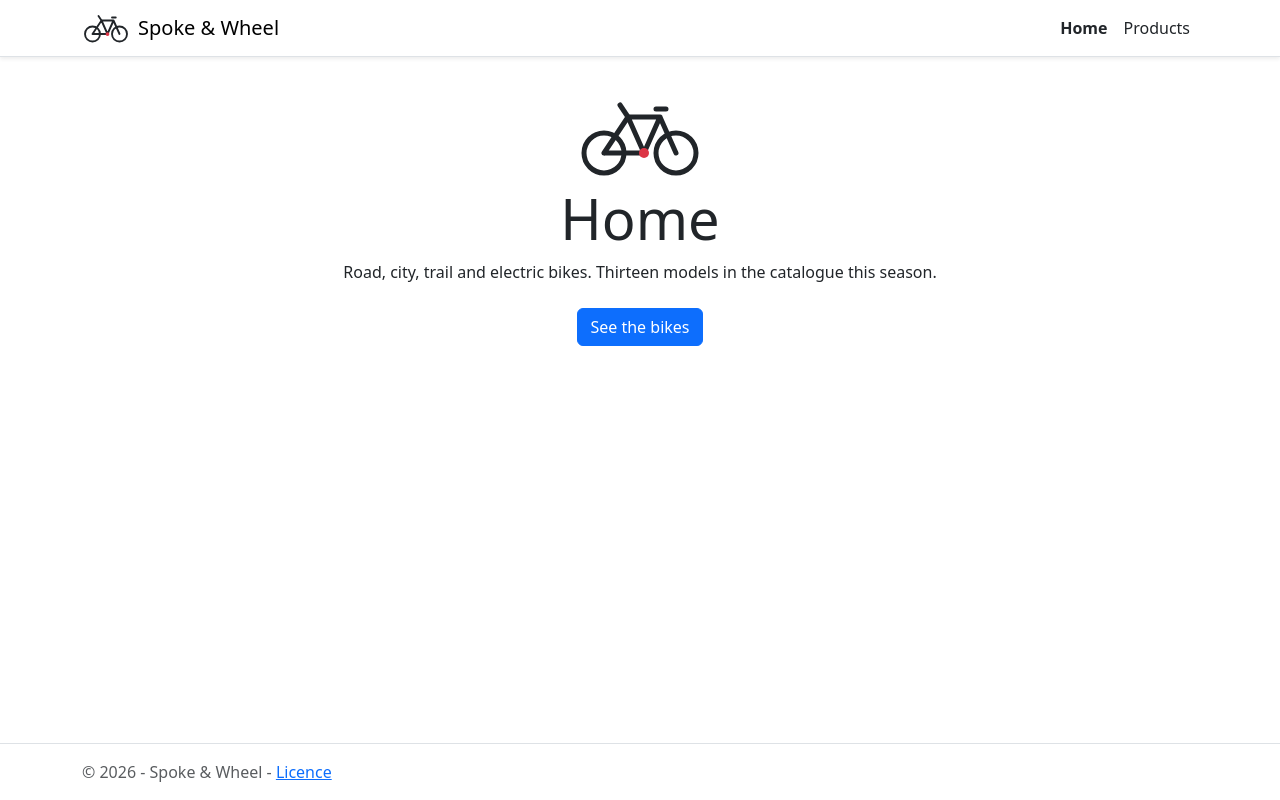
it: App › the Products link shows the catalogue fetched from the service
Step 1. Click the link with test id "nav-products" → x=1157, y=28, box [1124,17,1190,39]
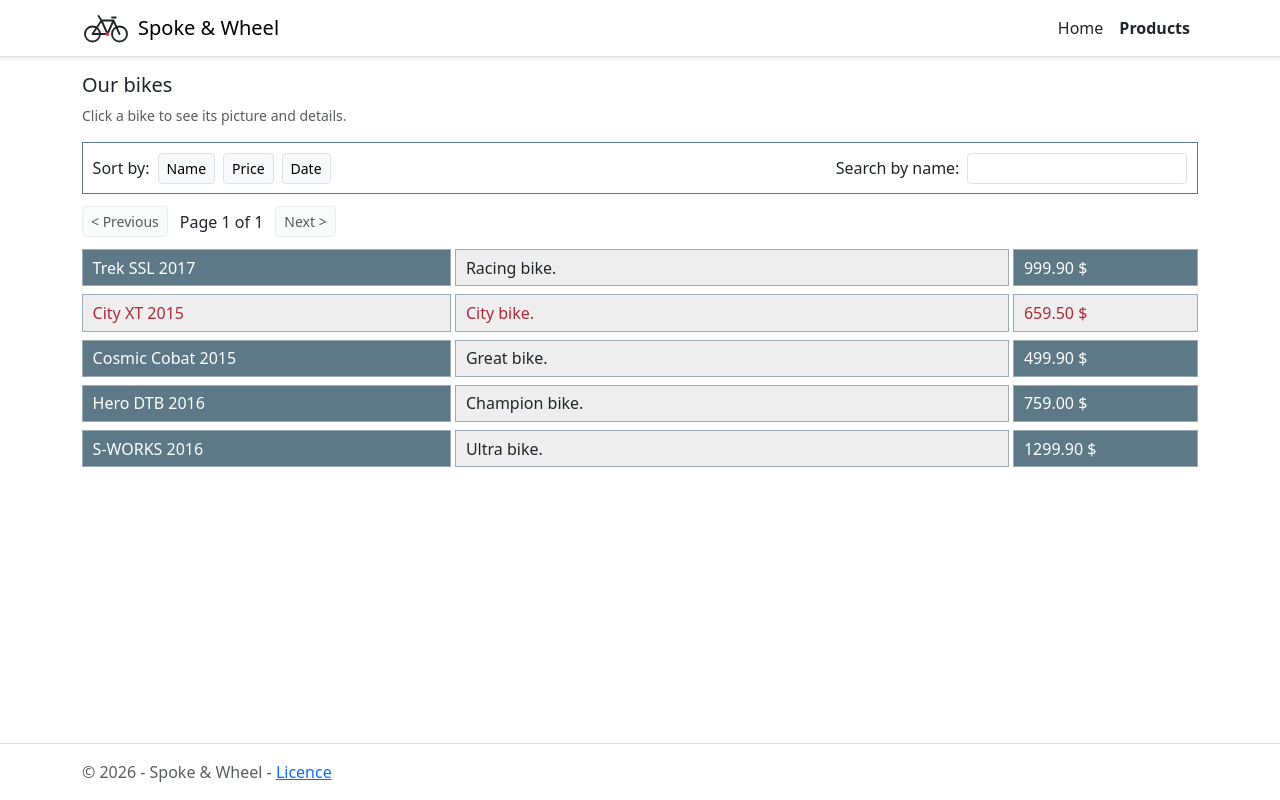
Now the number of buttons with test id "product" is 5, box [82,249,1198,286]; [82,294,1198,332]; [82,340,1198,377]; [82,385,1198,422]; [82,430,1198,467]
